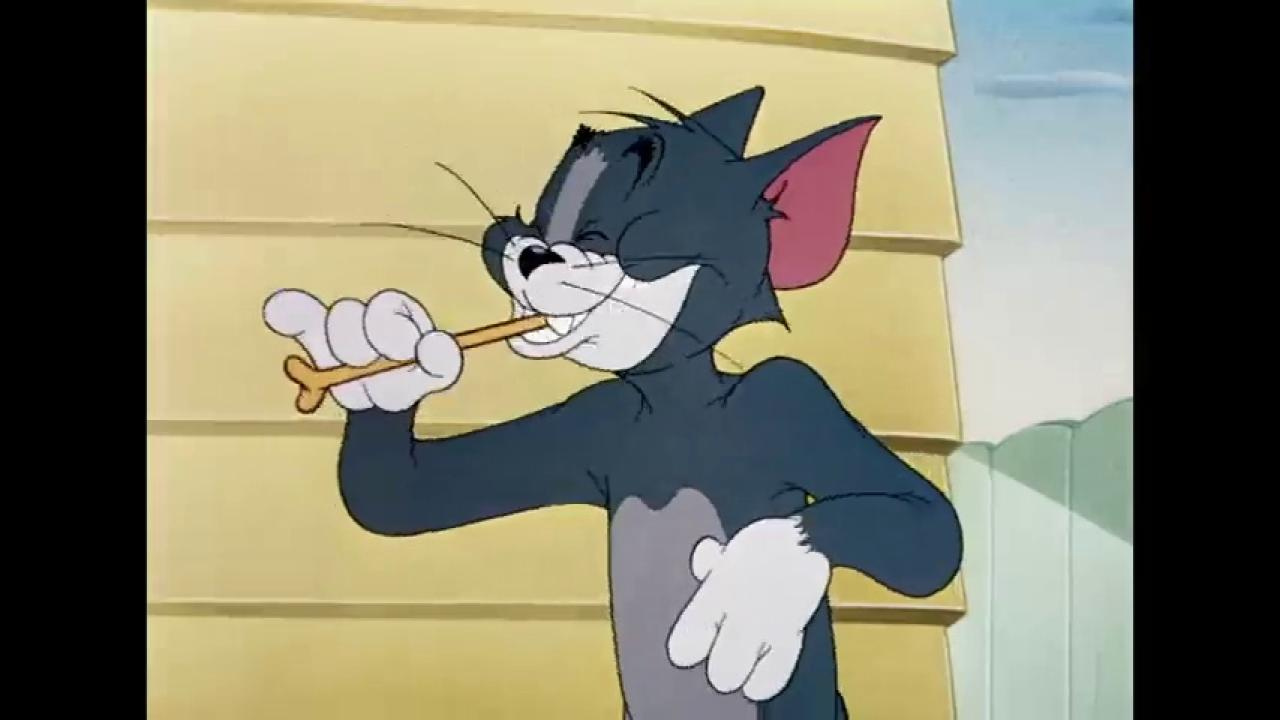Tom: (261, 81, 967, 720)
